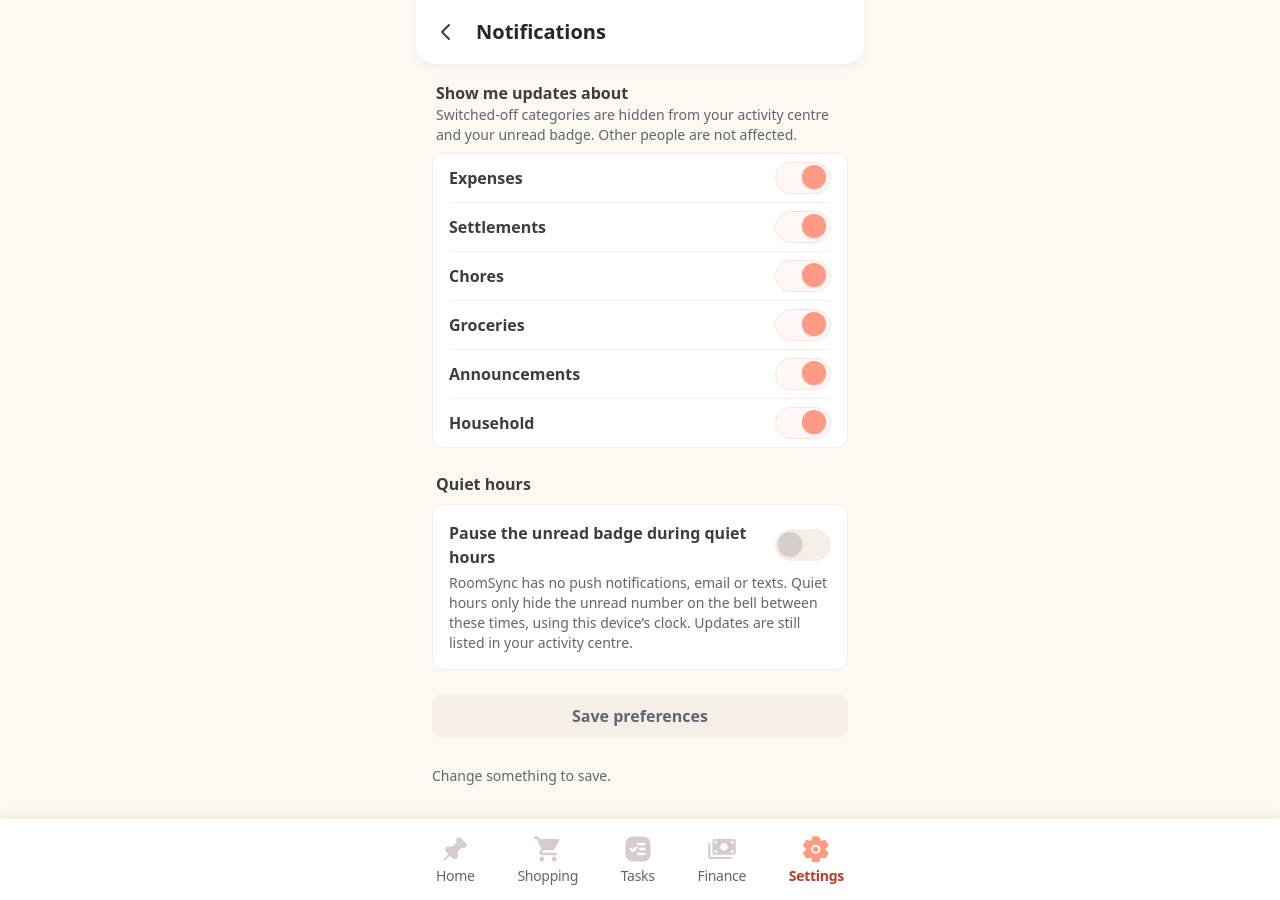
Test: notification preferences › turning a category off saves only the switched-off categories
Click the switch named "Chores" in the row of "Chores". click: (803, 276)
box: [775,260,831,292]
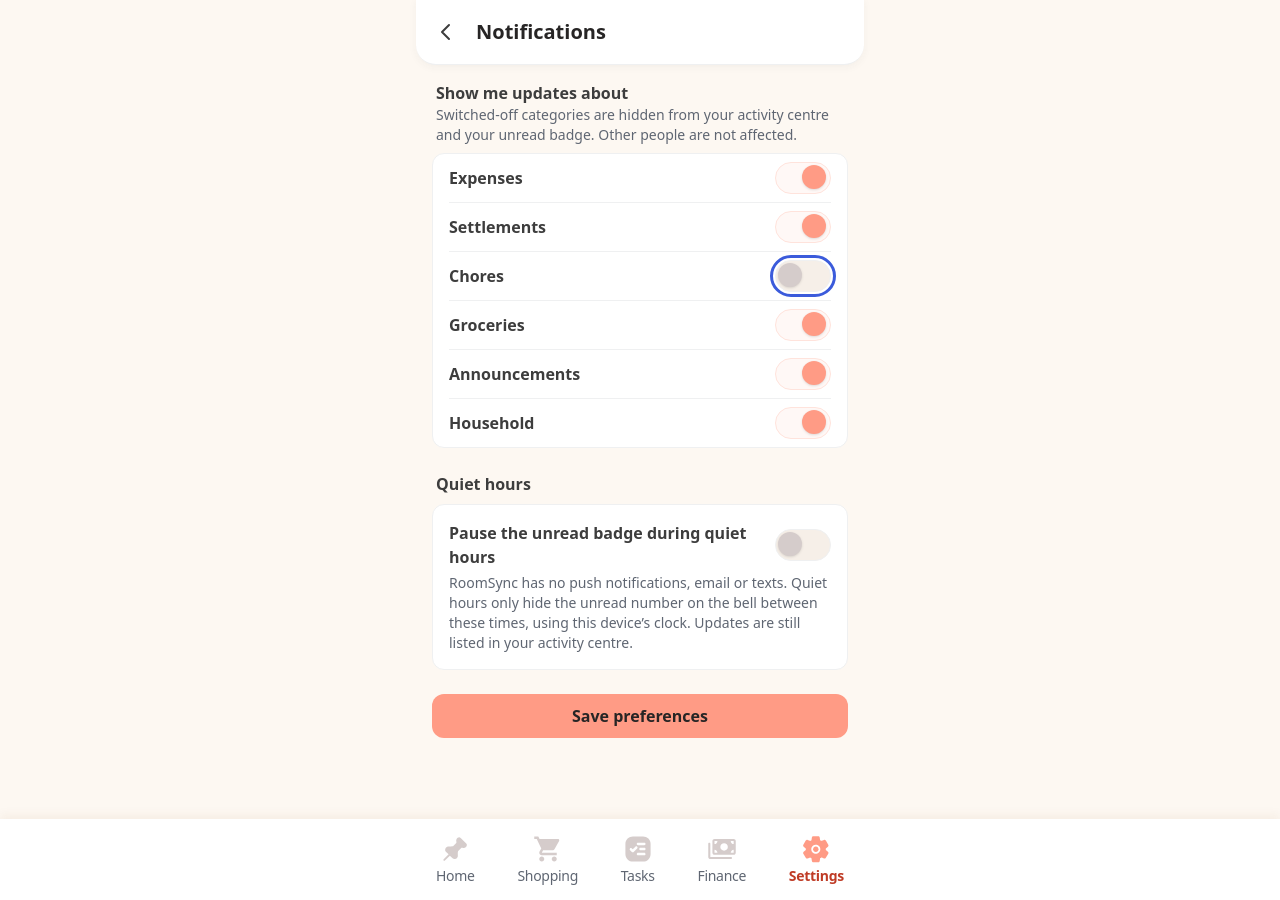
Click the button "Save preferences". click: (640, 716)
box: [432,694,848,738]
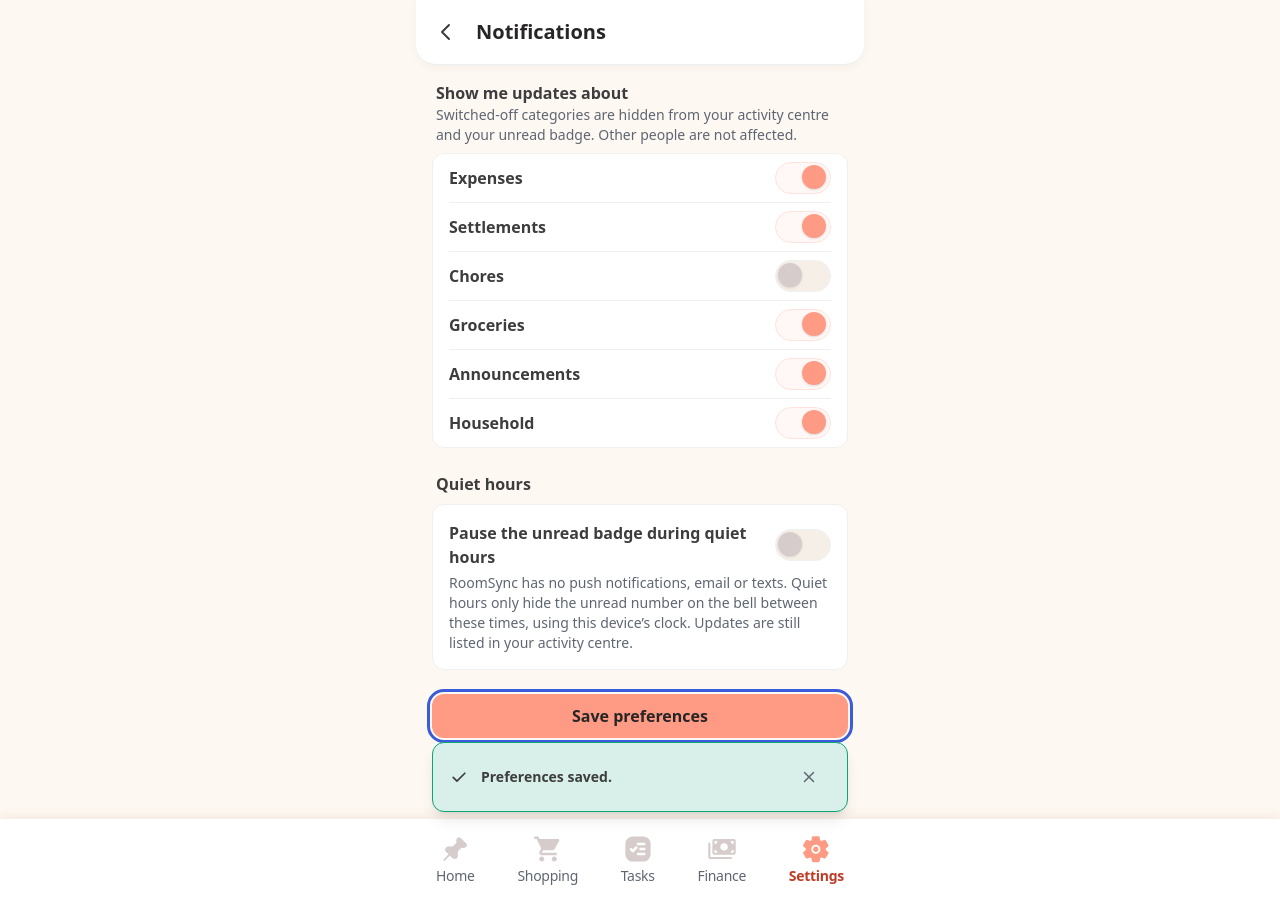
Expected: the text "Preferences saved." is shown, [481,767,612,786]
